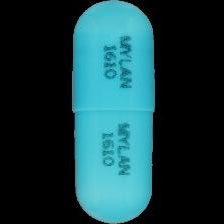55154-5599: (0, 0, 224, 224)
